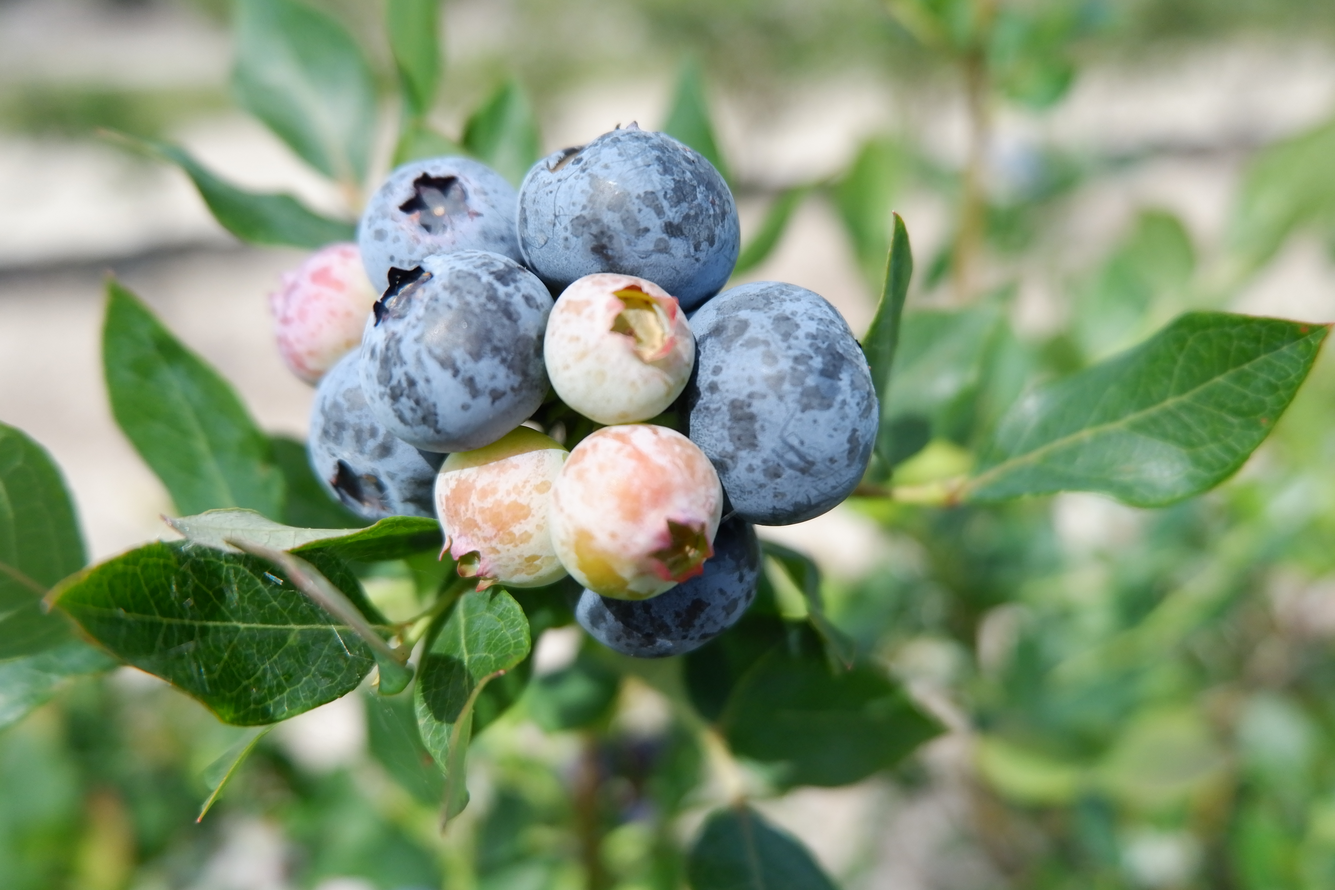Immature: (551, 428, 720, 597), (435, 428, 565, 589), (545, 278, 692, 420), (270, 243, 370, 381)
Mature: (685, 284, 875, 520), (516, 128, 739, 306), (362, 252, 546, 446), (574, 515, 759, 653), (312, 357, 444, 518), (357, 156, 518, 287)
